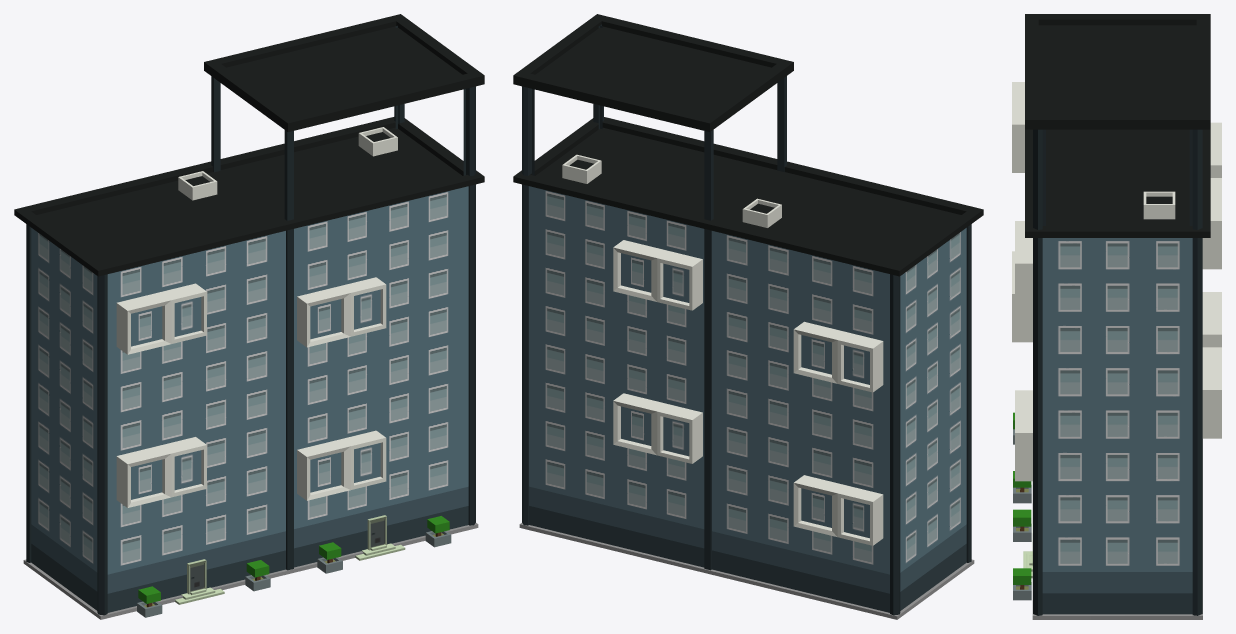
The model's file is Pair House Medium.fbx.
3 views of the same model, side by side, from view 1: azimuth 30°, elevation 25°; view 2: azimuth 150°, elevation 25°; view 3: azimuth 270°, elevation 25° (orthographic). The views are drawn at different scales.
Visible parts, largest first — view 1: Pair House Medium; view 2: Pair House Medium; view 3: Pair House Medium.
Part boxes in pixels (x1=…): Pair House Medium: x1=14, y1=14, x2=484, y2=619; Pair House Medium: x1=513, y1=14, x2=983, y2=619; Pair House Medium: x1=1012, y1=14, x2=1221, y2=619.
Bounding box in the file's own units: 10.71 × 12.02 × 4.56.
